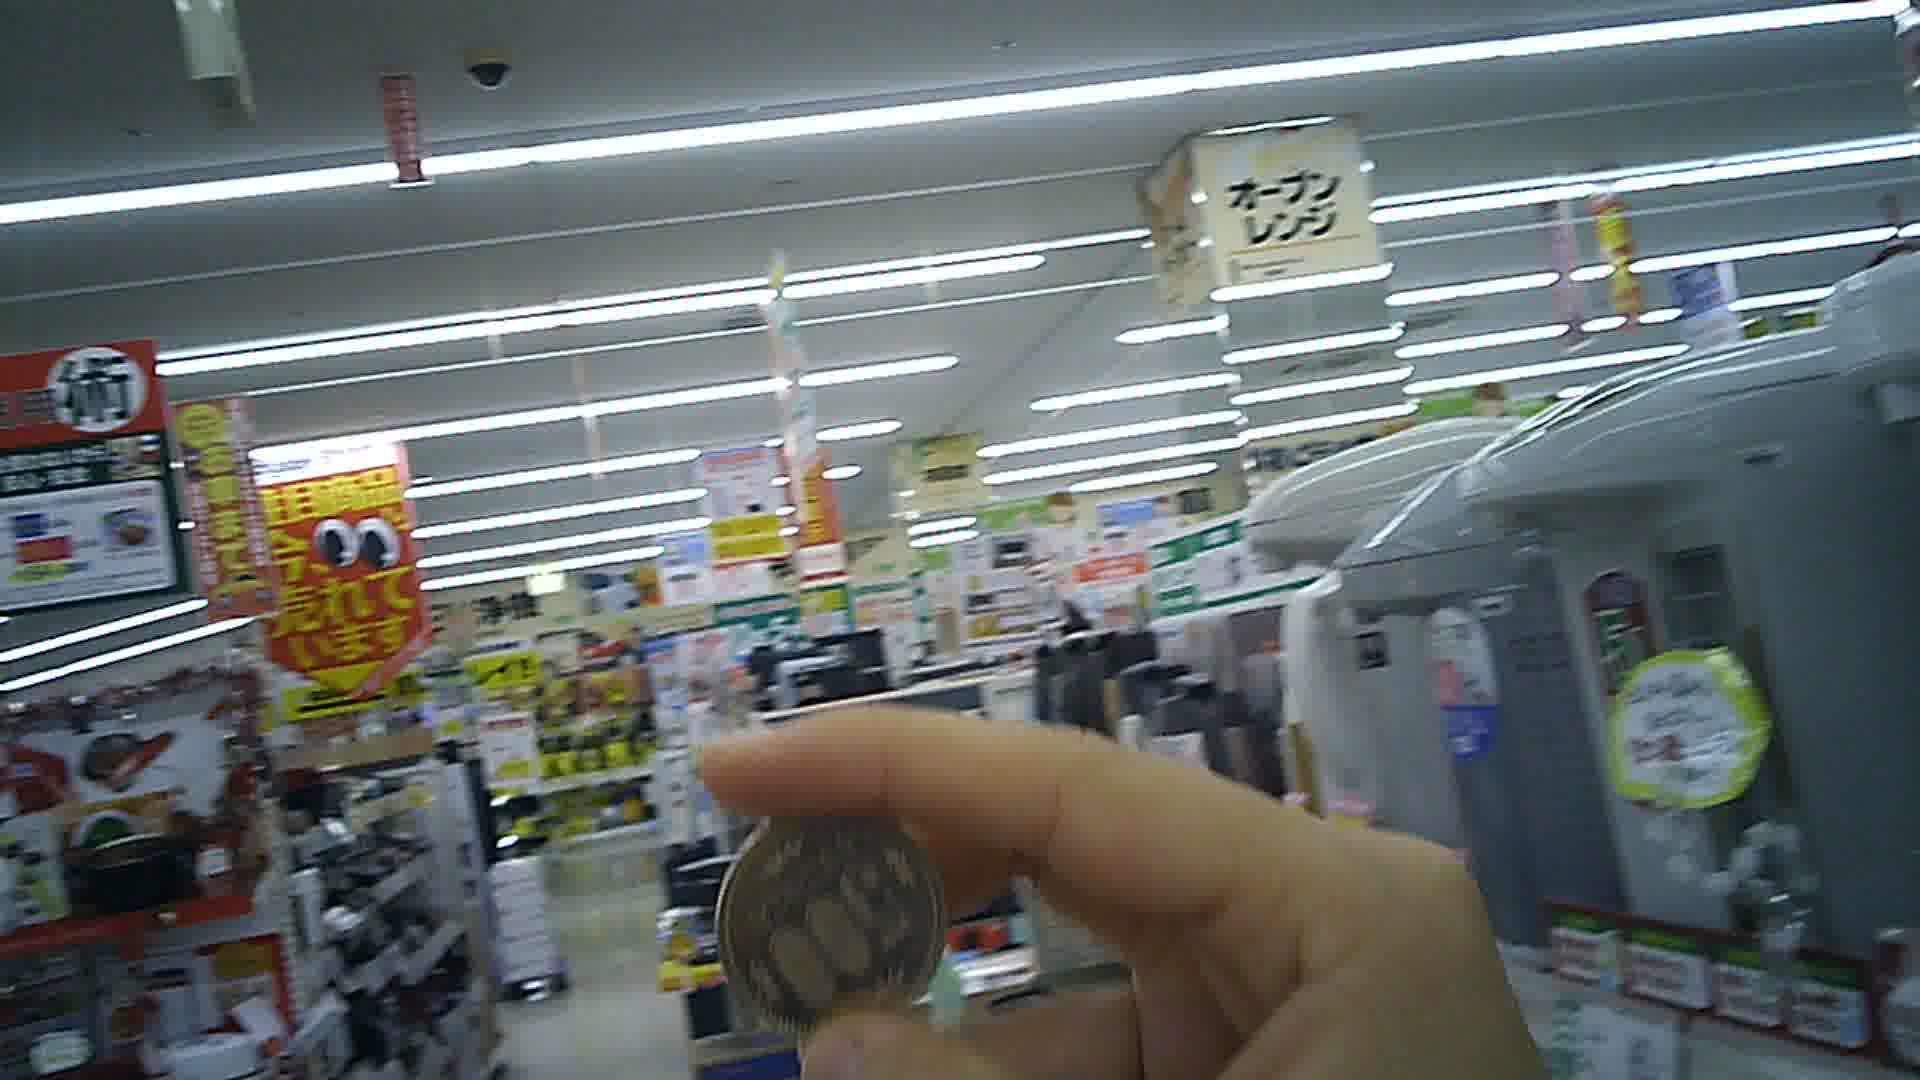500 Yen: (708, 806, 961, 1029)
